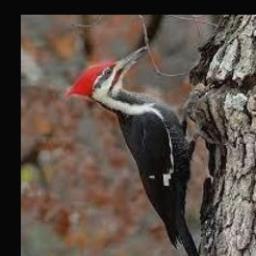Woodpecker: (66, 46, 201, 256)
